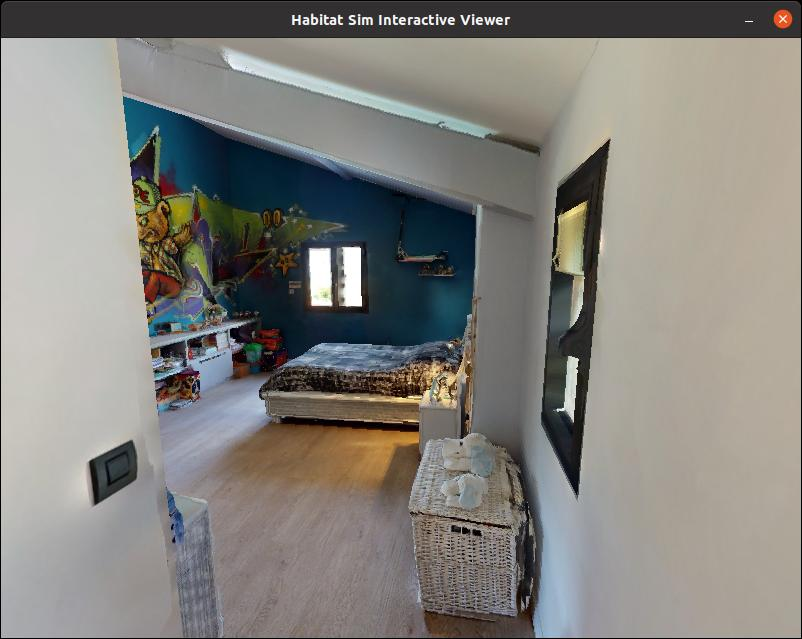bed: (251, 333, 482, 446)
